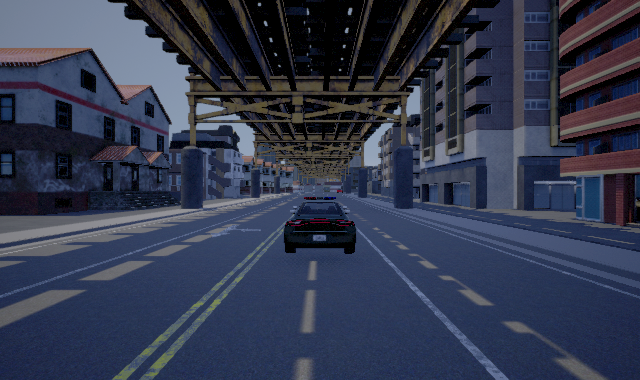vehicle: (284, 197, 356, 254)
